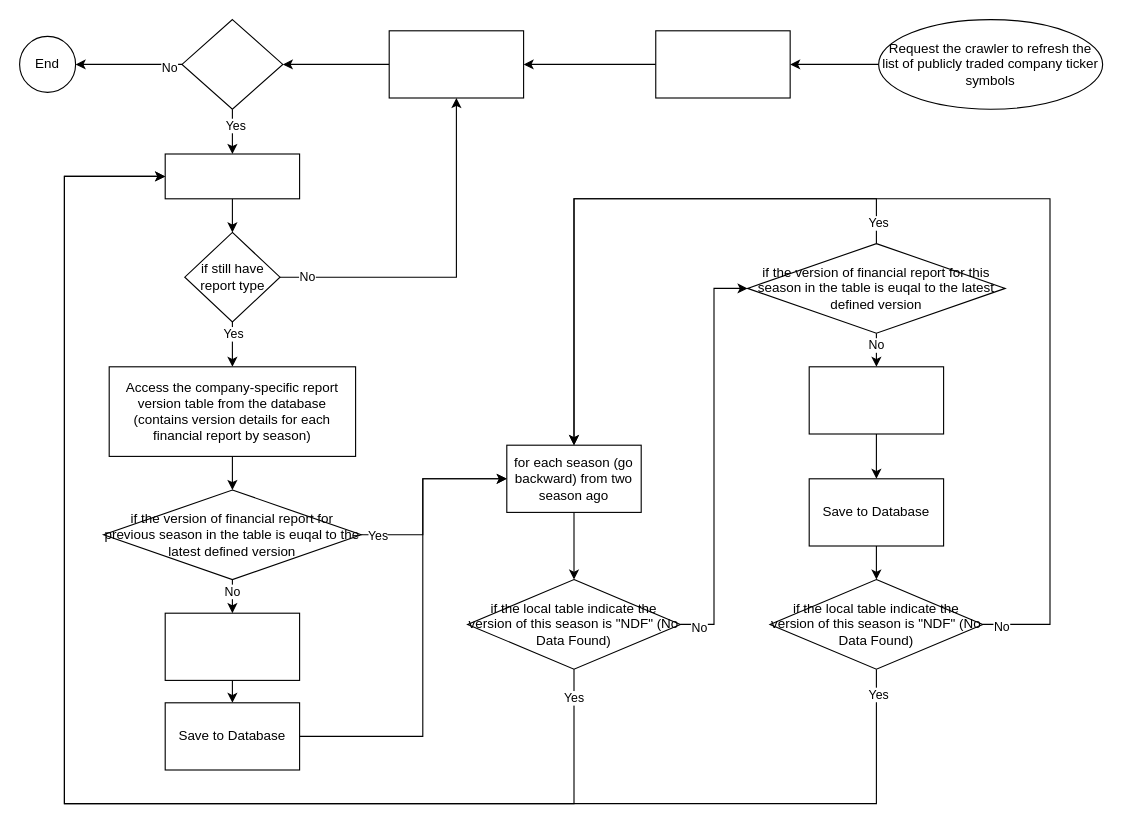
This 1122x832 diagram has some shape labels left out. Each missing label, with the centre of its shape:
Attempt to retrieve the financial report of previous season: (232,646)
Attempt to retrieve the financial report of this season: (876,400)
for each company: (456,64)
for each report type: (232,176)
Get the latest defined version for each report: (722,64)
if still have company: (232,63)
